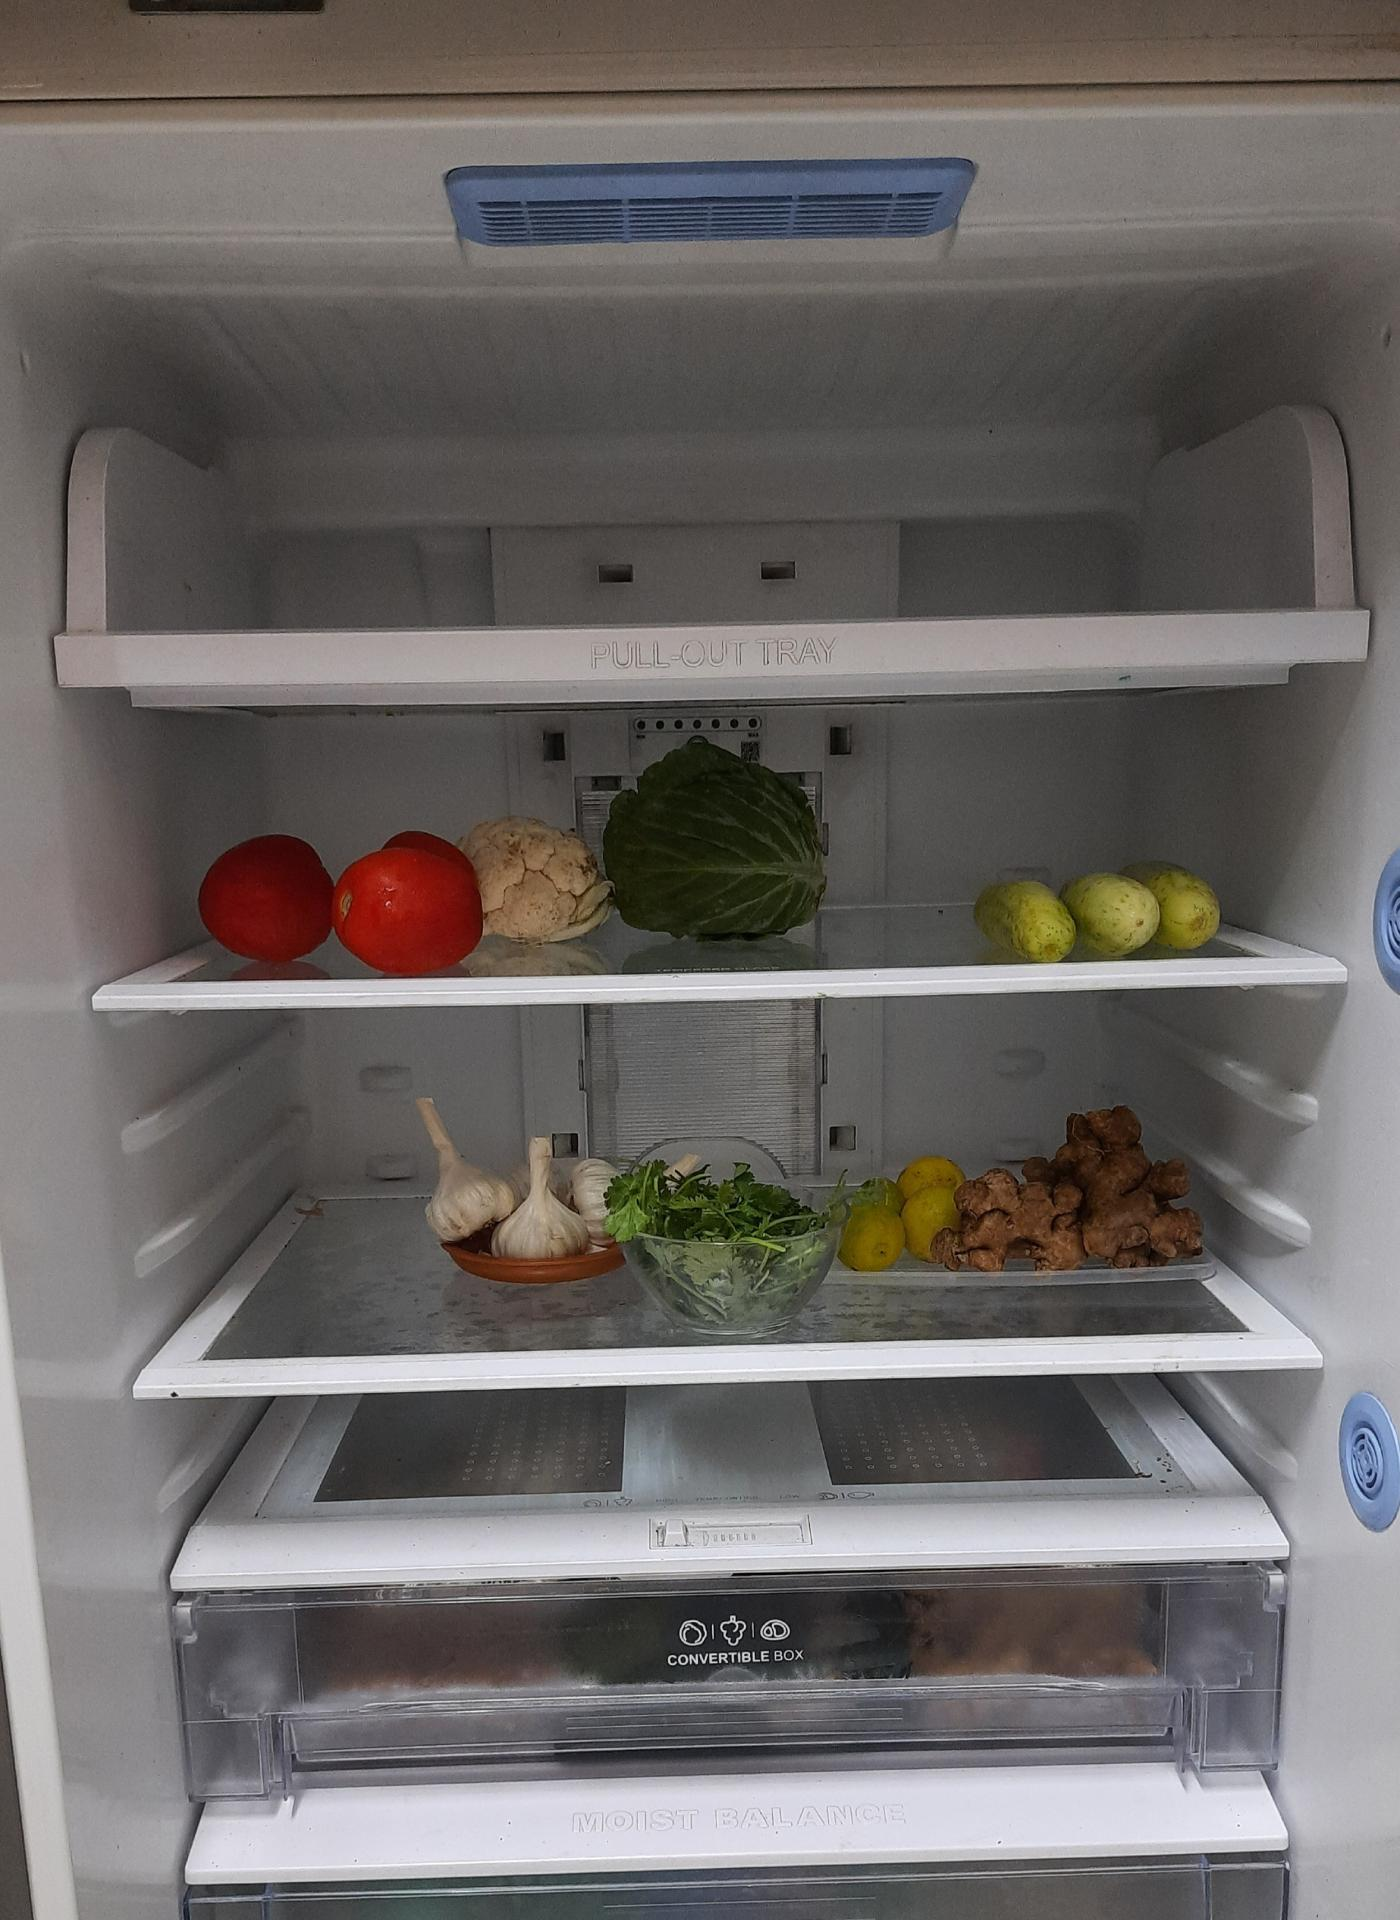cabbage: (610, 747, 823, 942)
cauliflower: (458, 818, 602, 941)
coriander: (617, 1164, 835, 1337)
cucumber: (977, 865, 1226, 953)
garlic: (416, 1090, 620, 1255)
ginger: (930, 1105, 1214, 1272)
lemon: (839, 1155, 968, 1269)
tomato: (201, 833, 491, 972)
